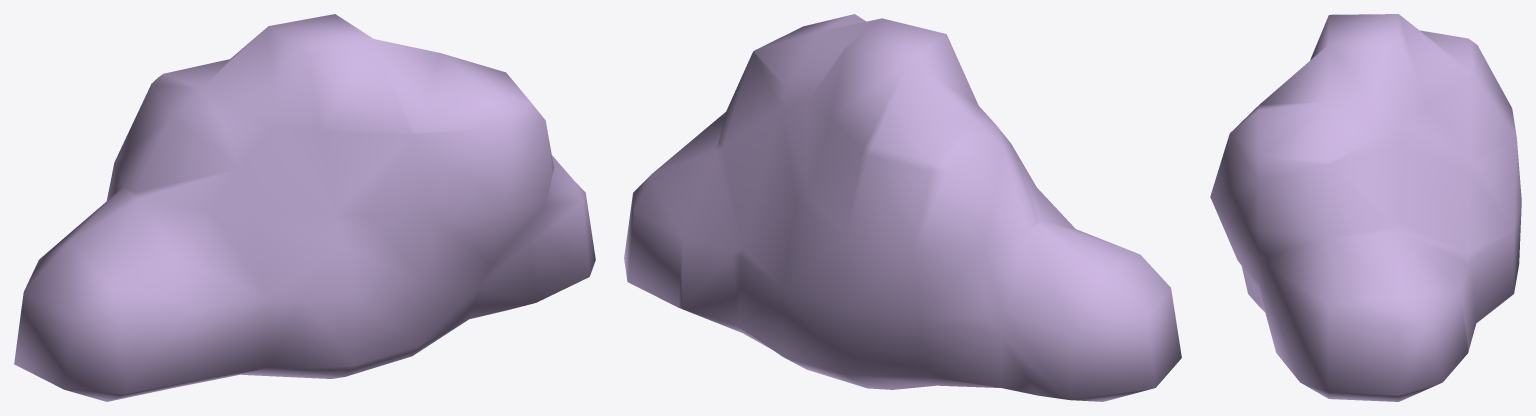
Rendered from spore_puff_B.glb.
The picture shows the model from 3 angles, left to right: view 1: azimuth 30°, elevation 25°; view 2: azimuth 150°, elevation 25°; view 3: azimuth 270°, elevation 25°; orthographic projection. The views are drawn at different scales.
Visible parts, largest first — view 1: spore_puff_B; view 2: spore_puff_B; view 3: spore_puff_B.
Part boxes in pixels (x1,y1,x2,y2): spore_puff_B: (14,14,595,401); spore_puff_B: (624,14,1181,401); spore_puff_B: (1210,14,1521,401).
Bounding box in the file's own units: 1.83 × 1.03 × 0.994.
